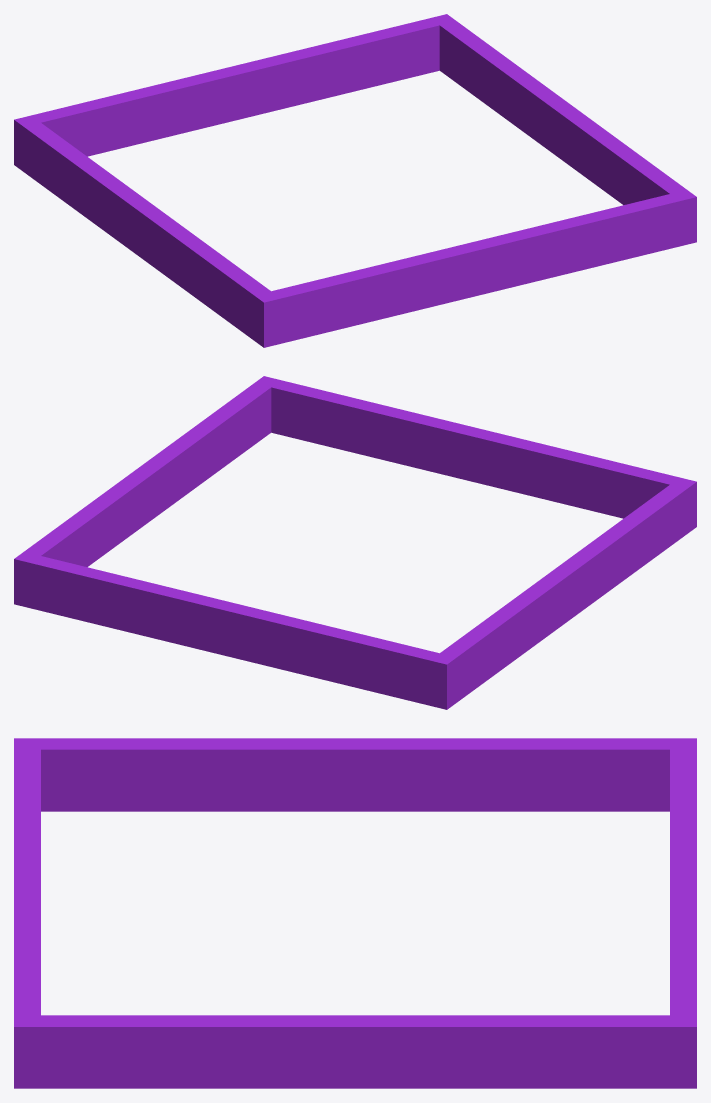
File: cuadrobase.fbx
The picture shows the model from 3 angles, top to bottom: view 1: azimuth 30°, elevation 25°; view 2: azimuth 150°, elevation 25°; view 3: azimuth 270°, elevation 25°; orthographic projection. The views are drawn at different scales.
Visible parts, largest first — view 1: Plane; view 2: Plane; view 3: Plane.
Part boxes in pixels (x1,y1,x2,y2): Plane: [14, 14, 696, 347]; Plane: [14, 376, 696, 709]; Plane: [14, 738, 696, 1088].
Size of the model in its own units: 50 by 5 by 50.
